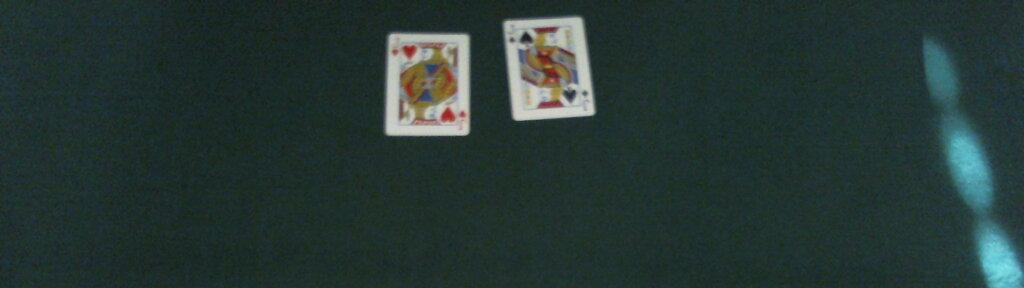jack: (502, 15, 596, 120), (384, 33, 469, 137)
